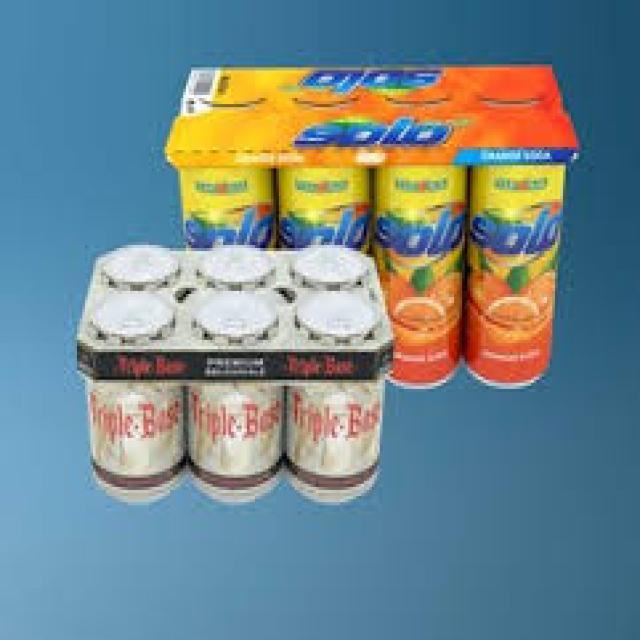Cans: (470, 150, 558, 395), (372, 165, 462, 392)
